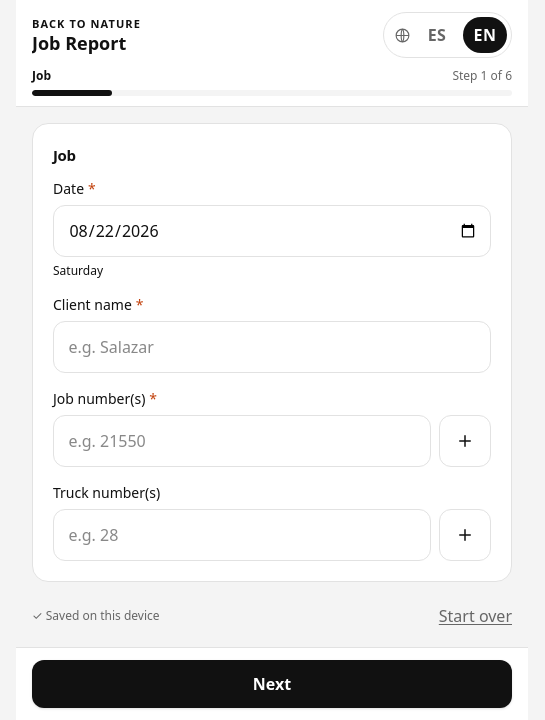
moving past the times step › blocks Next while a time contradicts another, and frees it once fixed
Click the button "Next" at (272, 684), box x1=32 y1=660 x2=512 y2=708
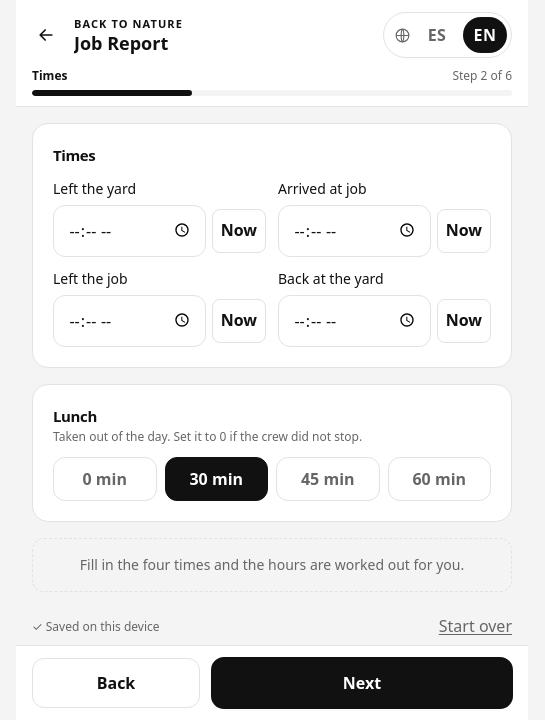
Type "07:00" into the time field labelled "Left the yard" at (129, 230), box x1=53 y1=204 x2=206 y2=256
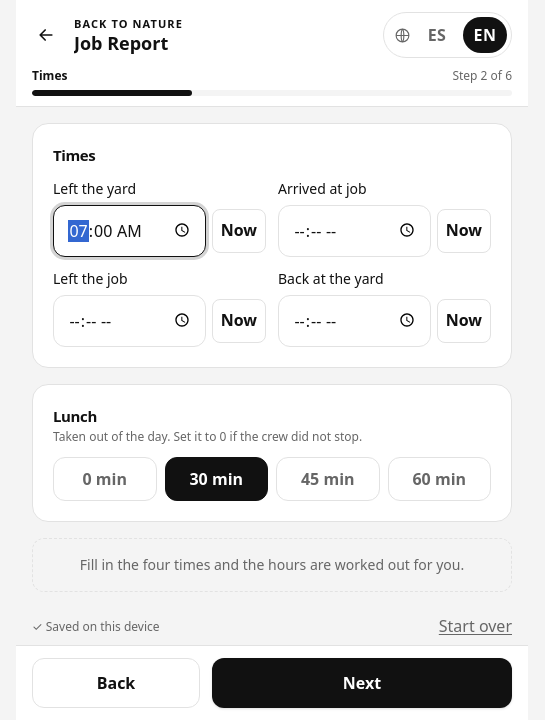
Type "04:30" into the time field labelled "Back at the yard" at (354, 320), box x1=278 y1=294 x2=431 y2=346
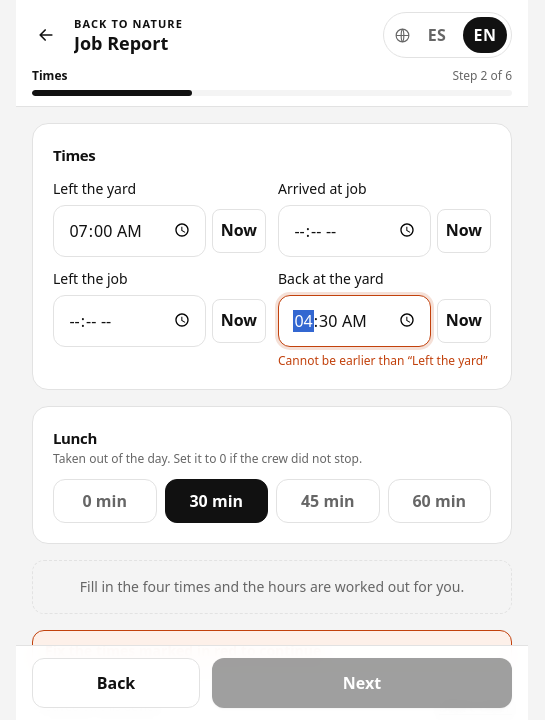
Expected: the button "Next" is disabled
Click the button "Next" at (362, 683), box x1=212 y1=658 x2=512 y2=708
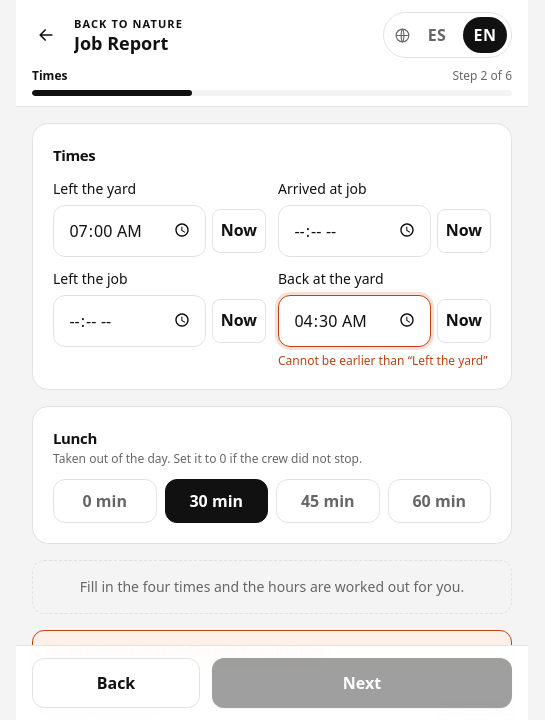
Replace the text in the time field labelled "Back at the yard" with "16:30" at (354, 320), box x1=278 y1=294 x2=431 y2=346
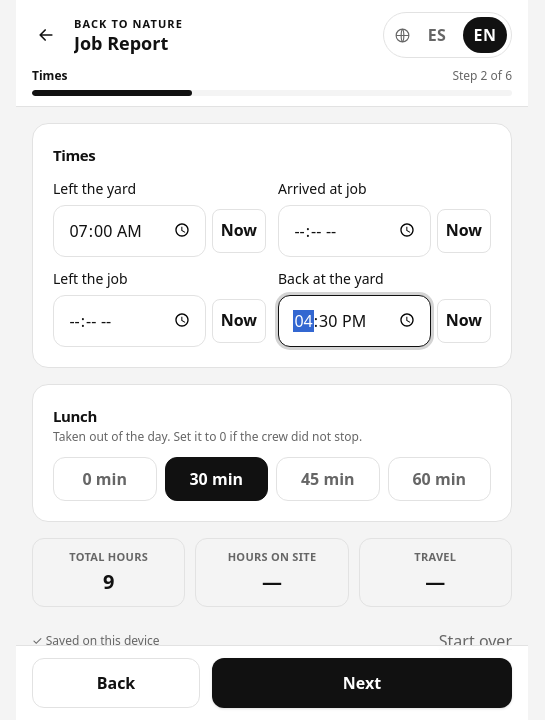
Expected: the button "Next" is enabled
Click the button "Next" at (362, 683), box x1=212 y1=658 x2=512 y2=708
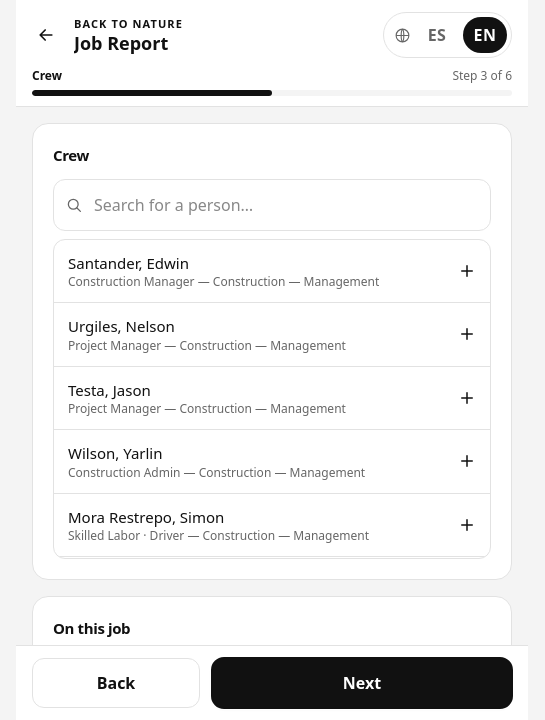
Expected: the search field with placeholder "Search for a person…" is shown, x1=53 y1=178 x2=491 y2=230
